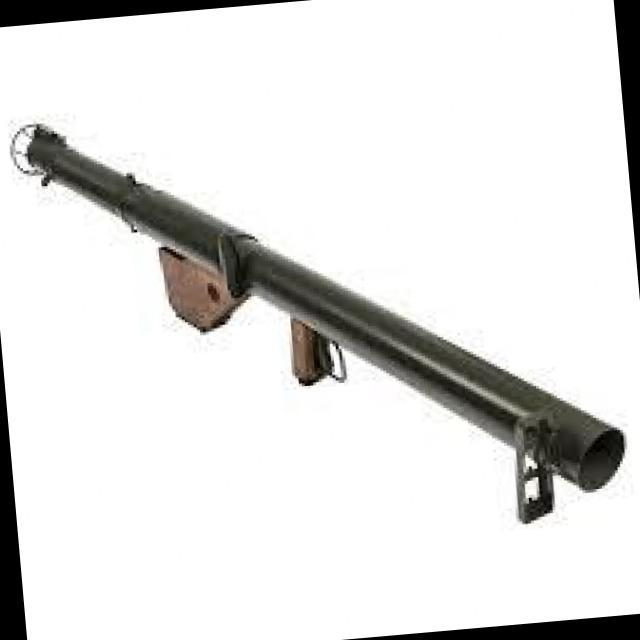rocket: (6, 72, 637, 566)
